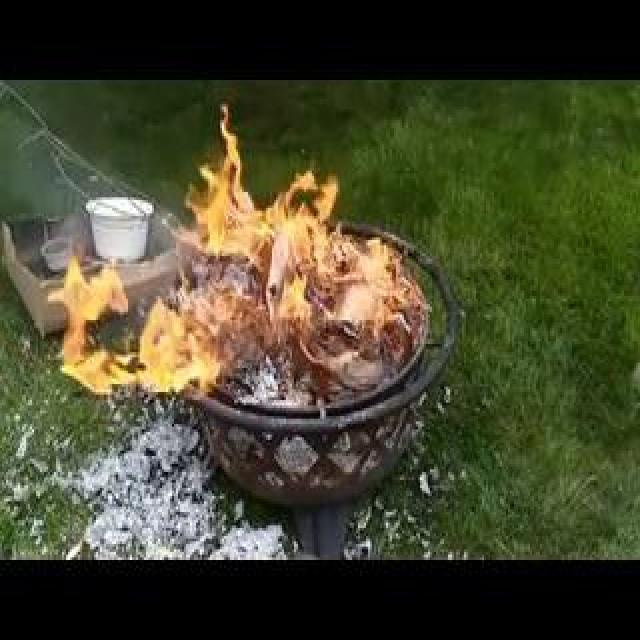fire: (198, 130, 401, 304), (64, 272, 205, 393)
